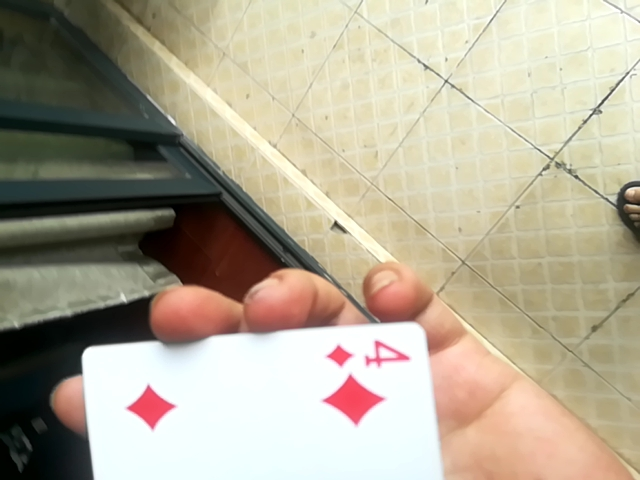fk 4: (75, 315, 449, 477)
